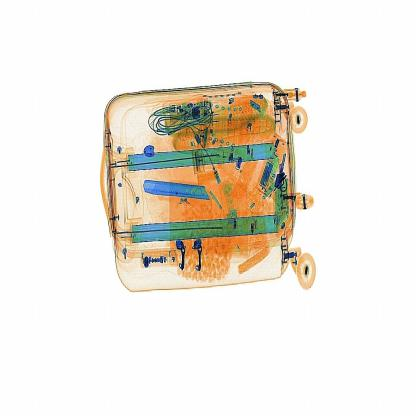pliers: (141, 180, 211, 205)
